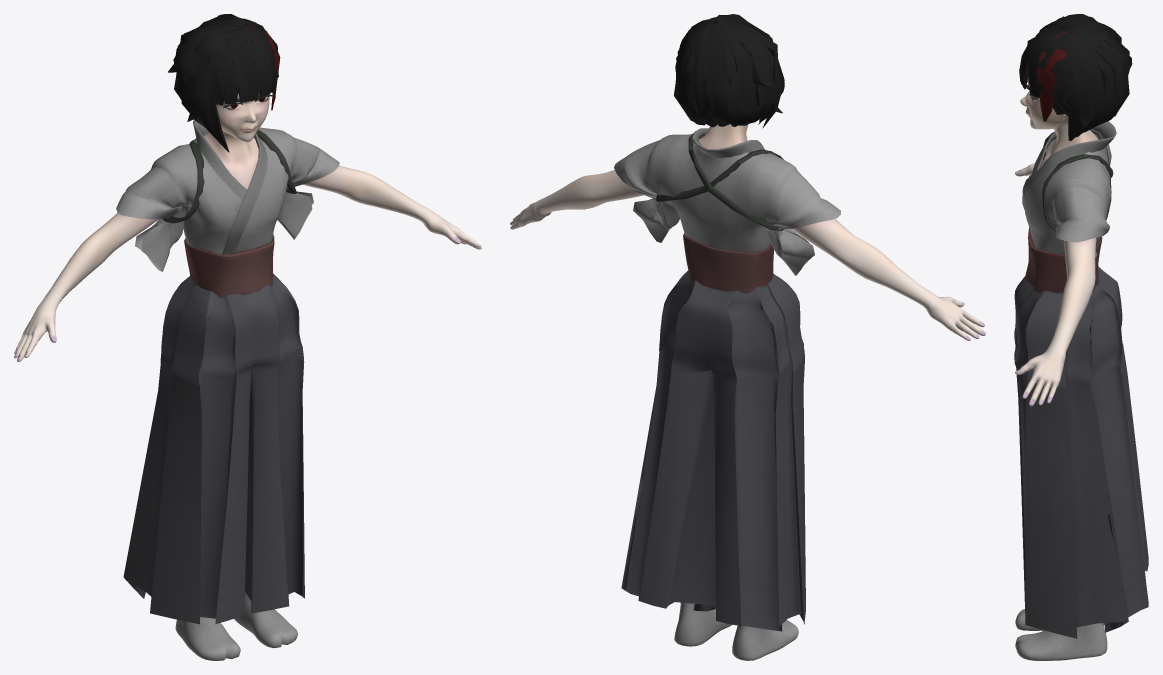
The model's file is kaede_fix.fbx.
3 renders of one model, left to right at view 1: azimuth 30°, elevation 25°; view 2: azimuth 150°, elevation 25°; view 3: azimuth 270°, elevation 25°, orthographic.
Visible parts, largest first — view 1: chara1, ran013:polySurface31; view 2: chara1, ran013:polySurface31; view 3: chara1, ran013:polySurface31.
Part boxes in pixels (box(x1,y1,x2,y2)): chara1: box(14, 93, 481, 660); ran013:polySurface31: box(168, 14, 280, 152); chara1: box(510, 124, 985, 660); ran013:polySurface31: box(674, 14, 784, 128); chara1: box(1014, 77, 1148, 660); ran013:polySurface31: box(1019, 14, 1132, 140).
Bounding box in the file's own units: 87.05 × 109 × 21.6.
